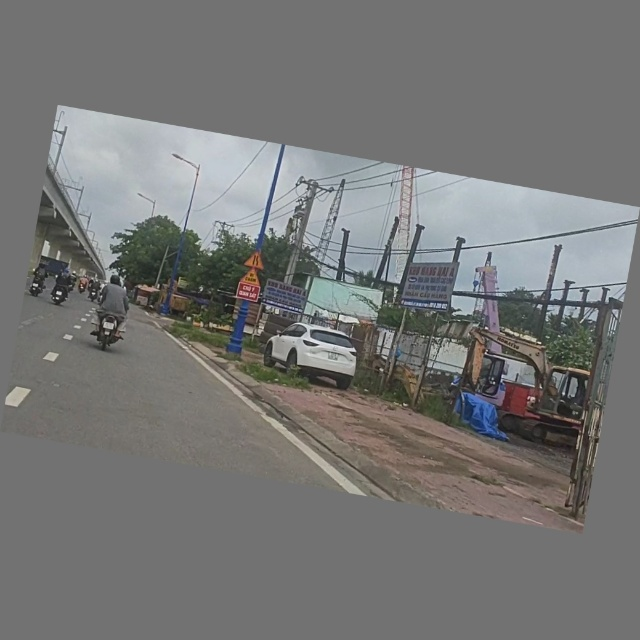W.203c: (244, 251, 267, 270)
W.245a: (240, 267, 263, 287)
